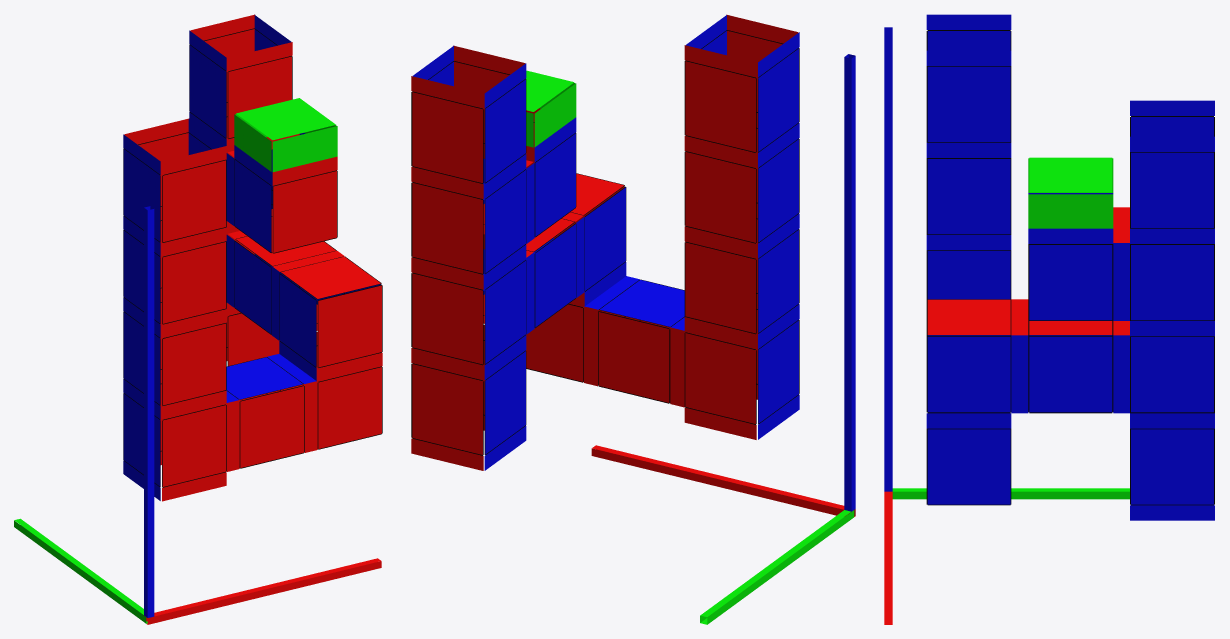
File: cx_small.gltf
3 renders of one model, left to right at view 1: azimuth 30°, elevation 25°; view 2: azimuth 150°, elevation 25°; view 3: azimuth 270°, elevation 25°, orthographic. The views are drawn at different scales.
Visible parts, largest first — view 1: spider(2, 1, 3):-J, spider(2, 0, 2):-J, spider(1, 0, 1):-J, spider(2, 0, 1):-J, spider(0, 0, 4):-J, spider(0, 0, 1):-J, spider(0, 0, 3):-J, spider(0, 0, 2):-J, axisK:-J, spider(2, 2, 4):-J, spider(2, 0, 2):-I, spider(2, 2, 4):-I (+39 smaller); view 2: spider(2, 2, 2):+J, spider(0, 0, 2):+J, spider(1, 0, 1):+J, spider(2, 2, 1):+J, spider(2, 2, 4):+J, spider(0, 0, 1):+J, spider(0, 0, 3):+J, spider(0, 0, 4):+J, spider(2, 2, 3):+J, axisK:+J, spider(2, 0, 1):+J, spider(2, 0, 2):-I (+49 smaller); view 3: spider(2, 0, 1):+I, spider(2, 1, 2):+I, spider(2, 0, 2):+I, spider(2, 2, 1):+I, spider(2, 2, 2):+I, spider(2, 1, 3):+I, spider(0, 0, 3):+I, spider(0, 0, 4):+I, spider(2, 2, 3):+I, spider(2, 2, 4):+I, spider(0, 0, 2):+I, axisK:+I (+25 smaller).
Part boxes in pixels (x1,y1,x2,y2): spider(2, 1, 3):-J: (272,170,337,253); spider(2, 0, 2):-J: (317,285,382,367); spider(1, 0, 1):-J: (239,385,304,468); spider(2, 0, 1):-J: (317,366,382,449); spider(0, 0, 4):-J: (162,159,226,242); spider(0, 0, 1):-J: (162,404,226,487); spider(0, 0, 3):-J: (162,241,226,324); spider(0, 0, 2):-J: (162,323,226,405); axisK:-J: (147,209,154,617); spider(2, 2, 4):-J: (227,56,292,138); spider(2, 0, 2):-I: (279,273,316,367); spider(2, 2, 4):-I: (189,44,226,138); spider(2, 2, 2):+J: (411,272,483,365); spider(0, 0, 2):+J: (684,241,756,334); spider(1, 0, 1):+J: (598,311,670,403); spider(2, 2, 1):+J: (411,363,483,455); spider(2, 2, 4):+J: (411,91,483,183); spider(0, 0, 1):+J: (684,332,756,424); spider(0, 0, 3):+J: (684,151,756,243); spider(0, 0, 4):+J: (684,60,756,152); spider(2, 2, 3):+J: (411,182,483,274); axisK:+J: (844,57,851,511); spider(2, 0, 1):+J: (526,304,583,382); spider(2, 0, 2):-I: (584,186,626,291); spider(2, 0, 1):+I: (926,428,1011,505); spider(2, 1, 2):+I: (1028,336,1113,413); spider(2, 0, 2):+I: (926,336,1011,413); spider(2, 2, 1):+I: (1130,428,1214,505); spider(2, 2, 2):+I: (1130,336,1214,413); spider(2, 1, 3):+I: (1028,244,1113,320); spider(0, 0, 3):+I: (926,158,1011,234); spider(0, 0, 4):+I: (926,66,1011,142); spider(2, 2, 3):+I: (1130,244,1214,320); spider(2, 2, 4):+I: (1130,152,1214,228); spider(0, 0, 2):+I: (926,250,1011,299); axisK:+I: (884,30,892,491).
Size of the model in its own units: 3.91 by 6.5 by 3.91.
